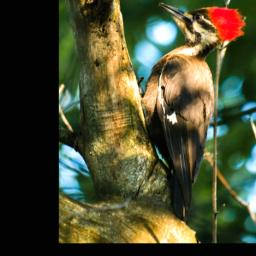Woodpecker: (130, 0, 246, 223)
